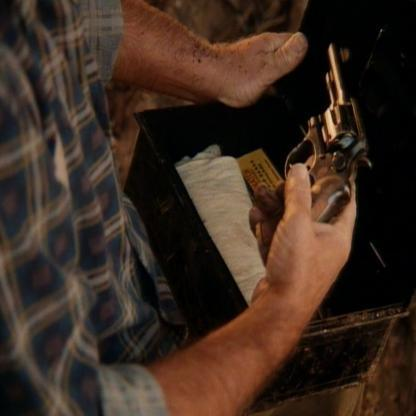gun: (310, 19, 368, 265)
